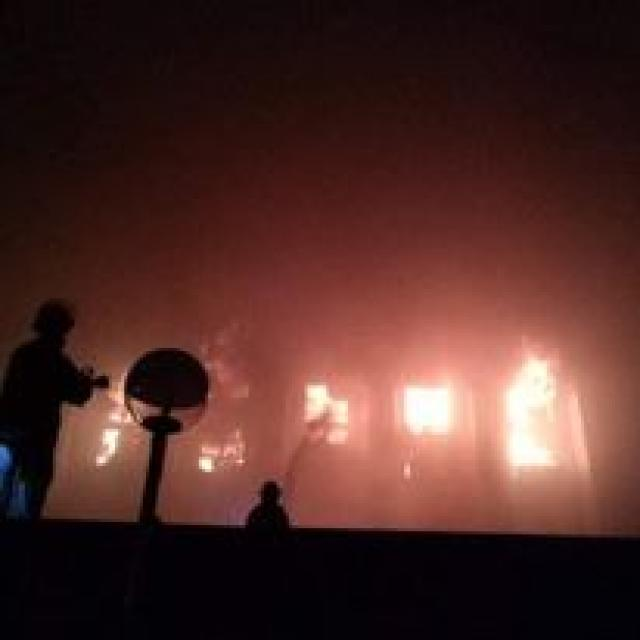Fire: (503, 346, 583, 487), (409, 376, 462, 442), (303, 388, 354, 442)
Smoke: (213, 12, 632, 360)
